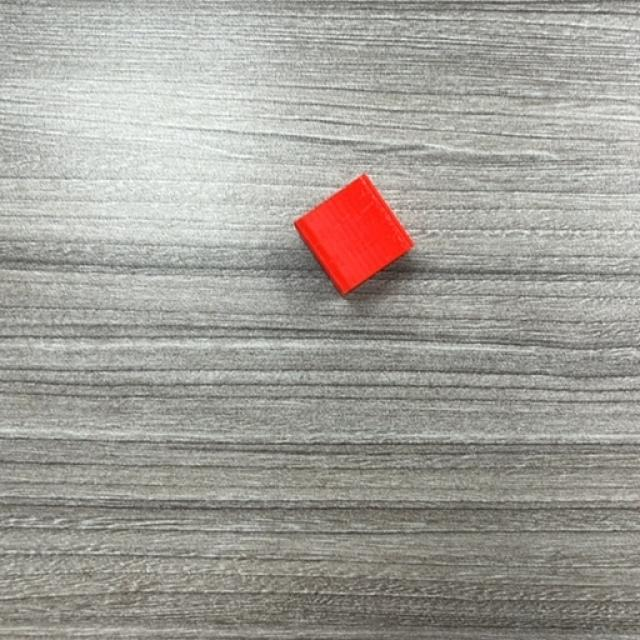Rojo: (291, 175, 415, 296)
